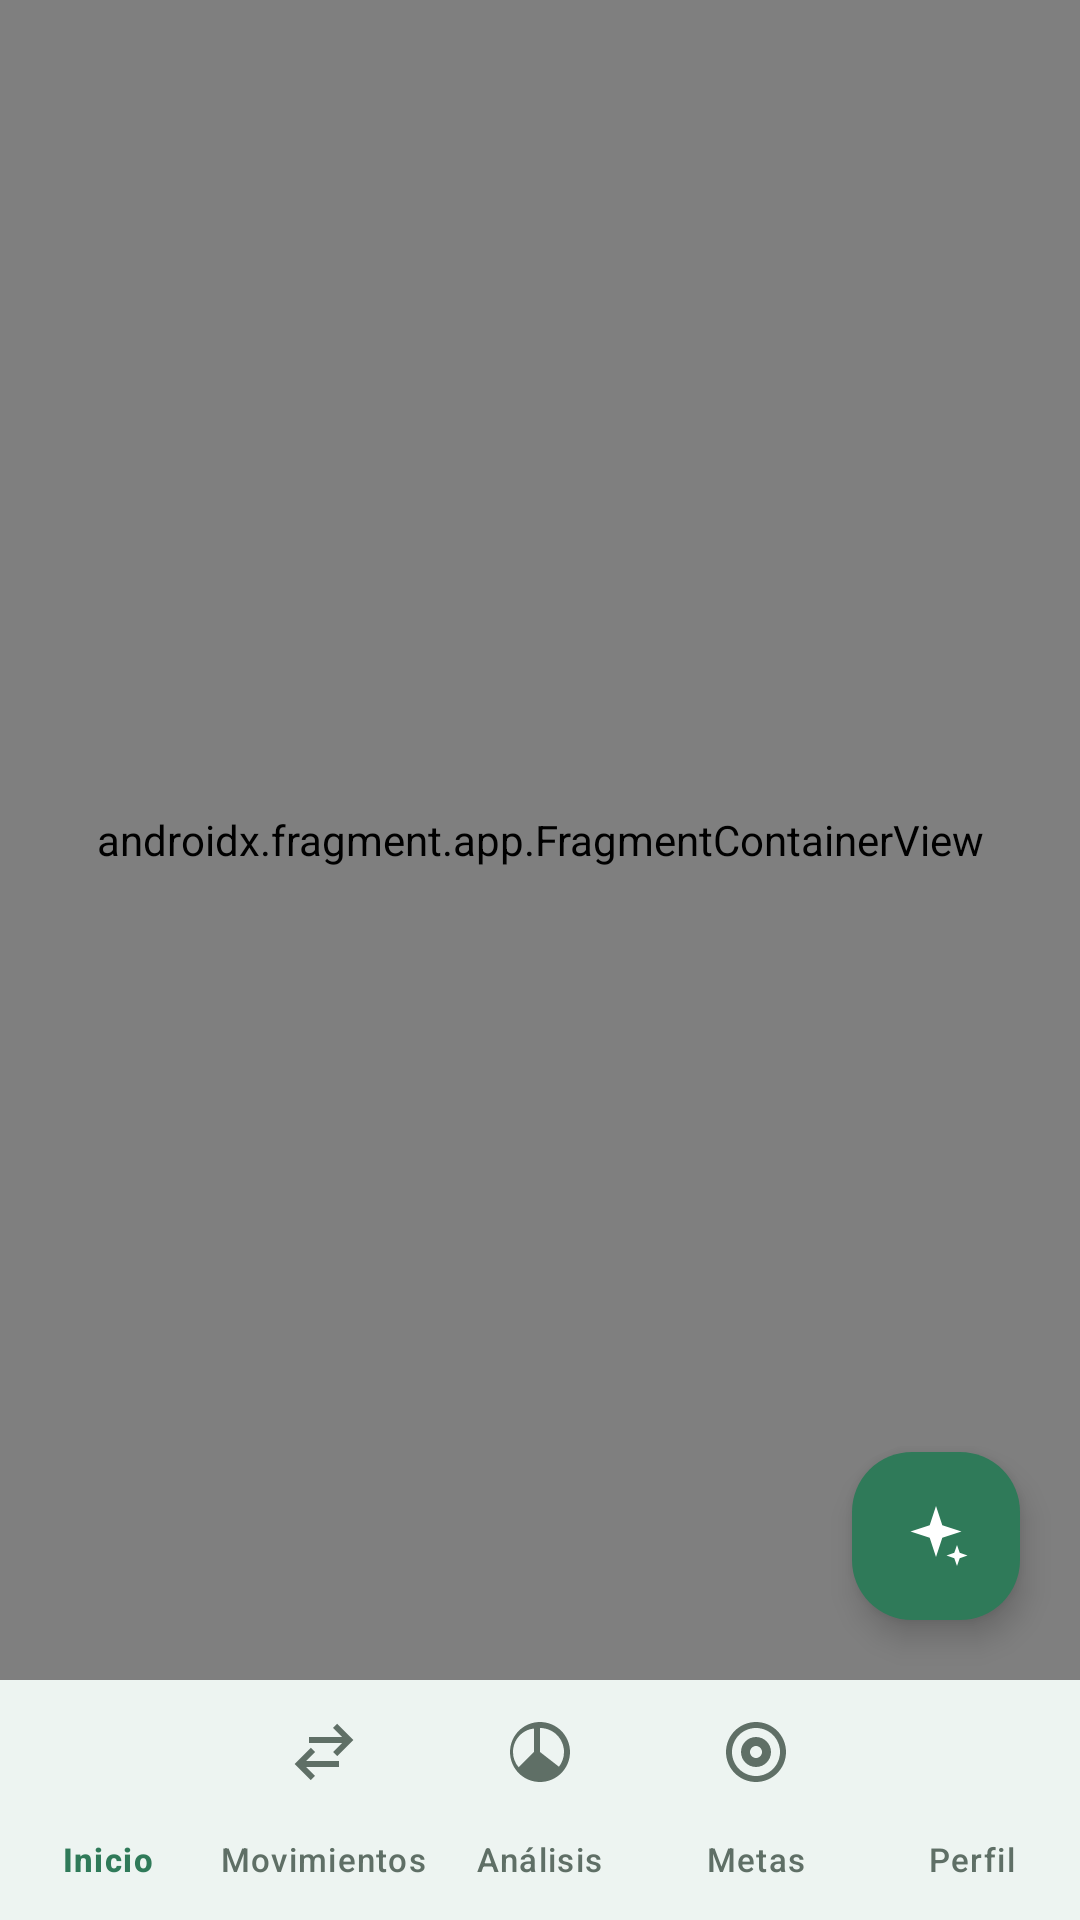

Point at icon controls on the screen. Image size 1080*1920, points as (x,y).
Abrir asistente Gamora: (936,1536)
